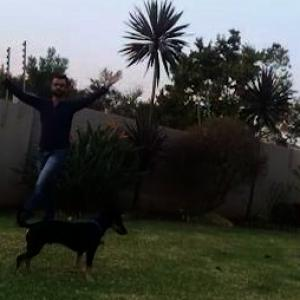takeoff: (0, 57, 116, 200)
